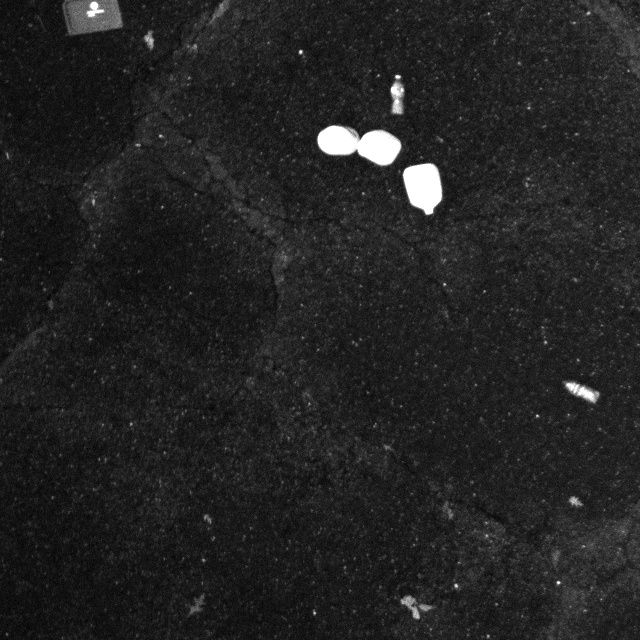bottle: (382, 71, 412, 119), (562, 376, 599, 406)
can: (357, 124, 406, 169), (403, 166, 444, 216), (315, 123, 365, 161)
